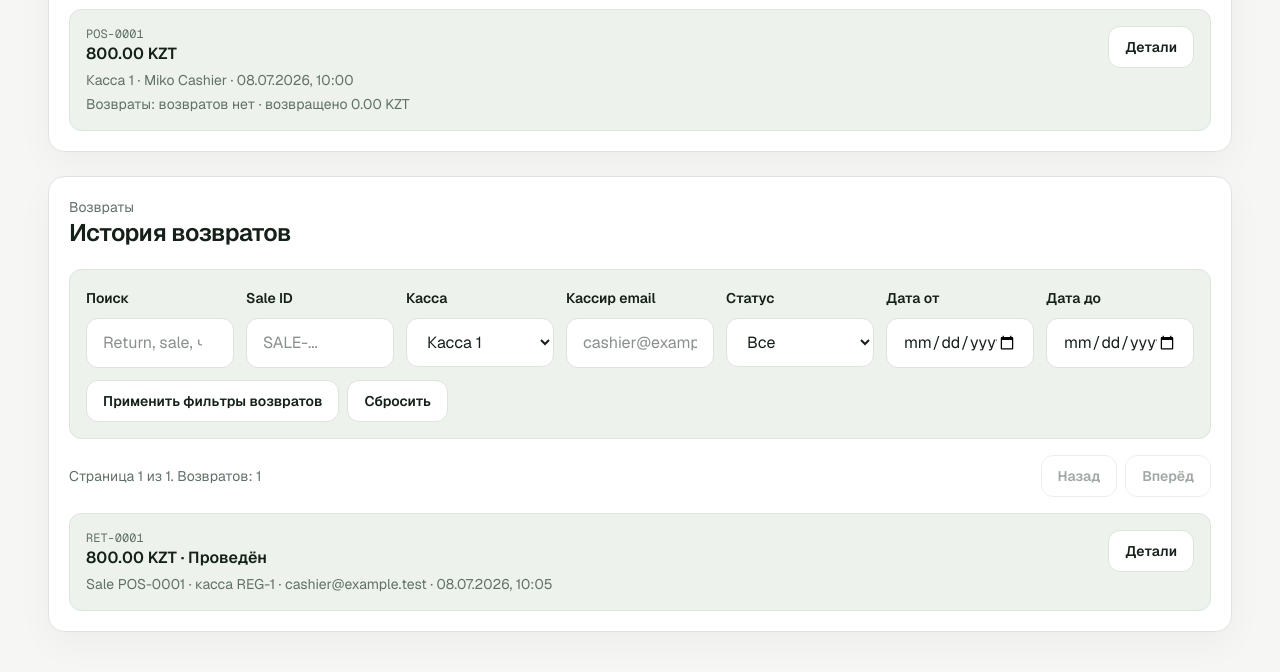
Test case: POSManager returns flow › hides cancel action from Cashier
This screenshot has width=1280, height=672.
(page scrolled)
Step 1. Click the button "Детали" in the row of "Проведён" → coordinates (1151, 551), box [1108,530,1194,572]
(page scrolled)
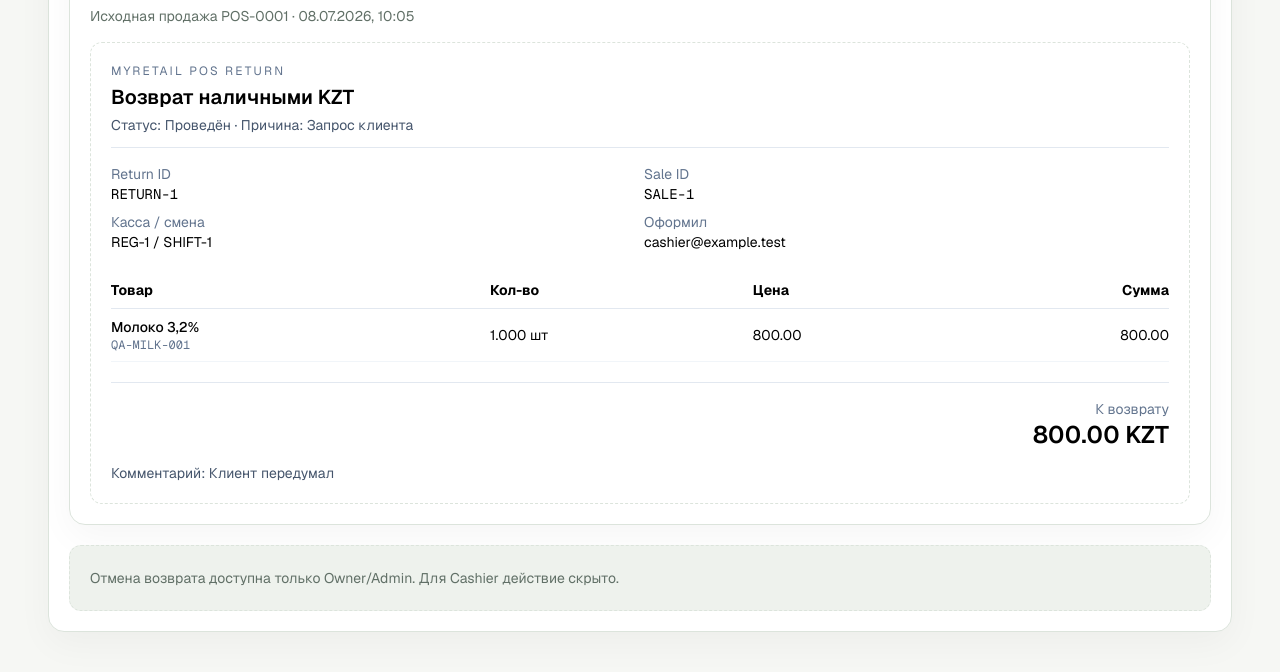
Expected: the text "Отмена возврата доступна только Owner/Admin. Для Cashier действие скрыто." is shown, [69,545,1211,611]
